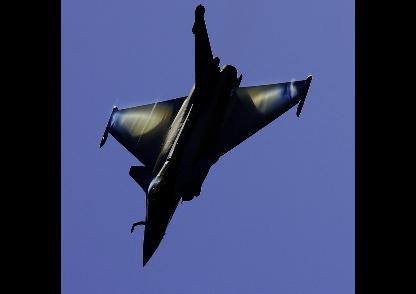RQ4: (100, 3, 312, 265)
